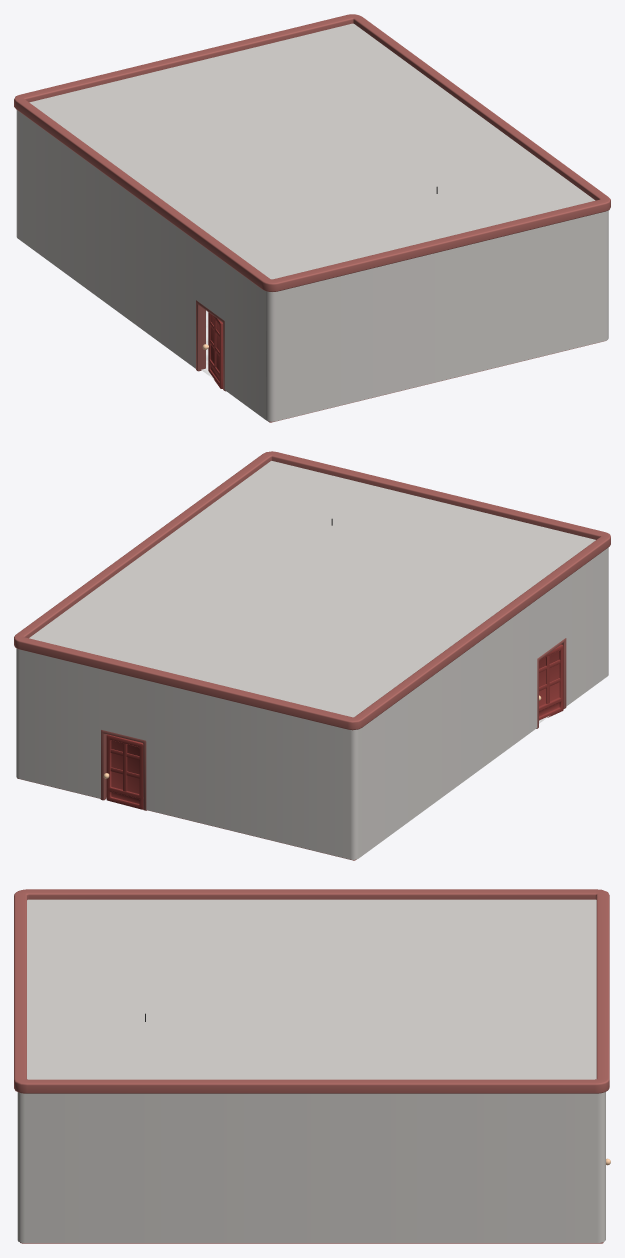
The model's file is room_window.fbx.
3 views of the same model, one above another, from view 1: azimuth 30°, elevation 25°; view 2: azimuth 150°, elevation 25°; view 3: azimuth 270°, elevation 25° (orthographic). The views are drawn at different scales.
Visible parts, largest first — view 1: SM_room_04__1_, SM_door_02; view 2: SM_room_04__1_, SM_door_02__1_, SM_door_02; view 3: SM_room_04__1_.
Part boxes in pixels (<box>): SM_room_04__1_: <box>14,14,610,422</box>; SM_door_02: <box>202,312,222,388</box>; SM_room_04__1_: <box>14,451,610,860</box>; SM_door_02__1_: <box>103,734,143,809</box>; SM_door_02: <box>539,644,563,720</box>; SM_room_04__1_: <box>14,889,609,1243</box>.
Bounding box in the file's own units: 1321 × 520 × 1708.
Materials: 10 (2 with a texture image).
